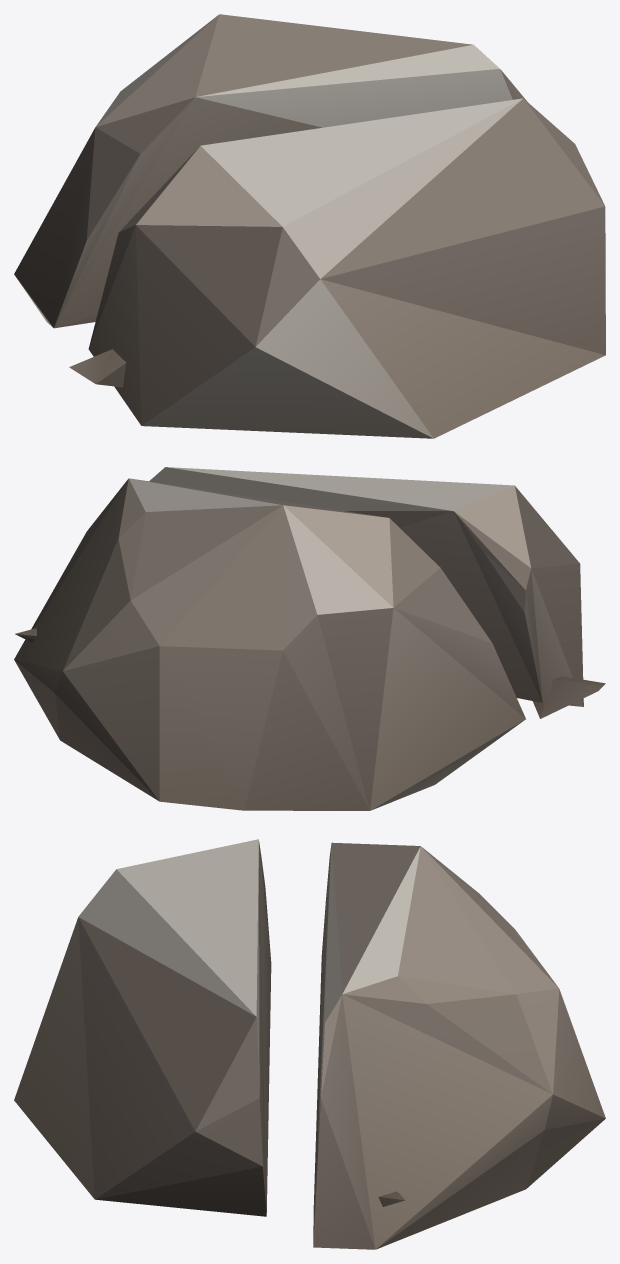
Rendered from abyss_boulder.glb.
3 views of the same model, one above another, from view 1: azimuth 30°, elevation 25°; view 2: azimuth 150°, elevation 25°; view 3: azimuth 270°, elevation 25° (orthographic). The views are drawn at different scales.
Visible parts, largest first — view 1: ca_abyss_boulder; view 2: ca_abyss_boulder; view 3: ca_abyss_boulder.
Part boxes in pixels (bbox=[...]): ca_abyss_boulder: bbox=[14, 14, 605, 438]; ca_abyss_boulder: bbox=[14, 467, 605, 810]; ca_abyss_boulder: bbox=[14, 839, 605, 1249].
Bounding box in the file's own units: 1.07 × 0.479 × 1.01.
Materials: 1 (1 with a texture image).
